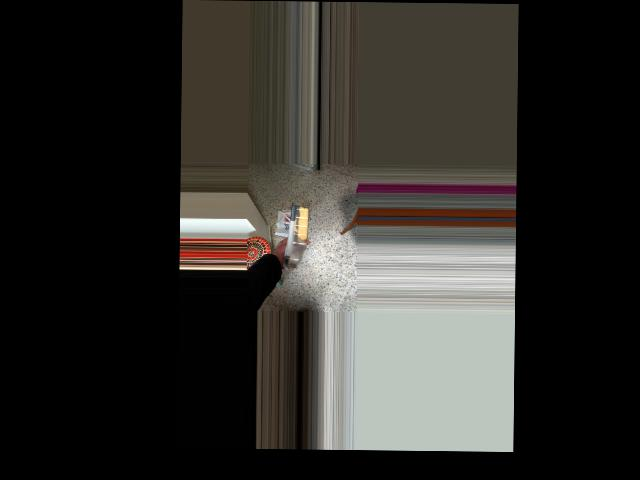cheese: (250, 203, 326, 256)
